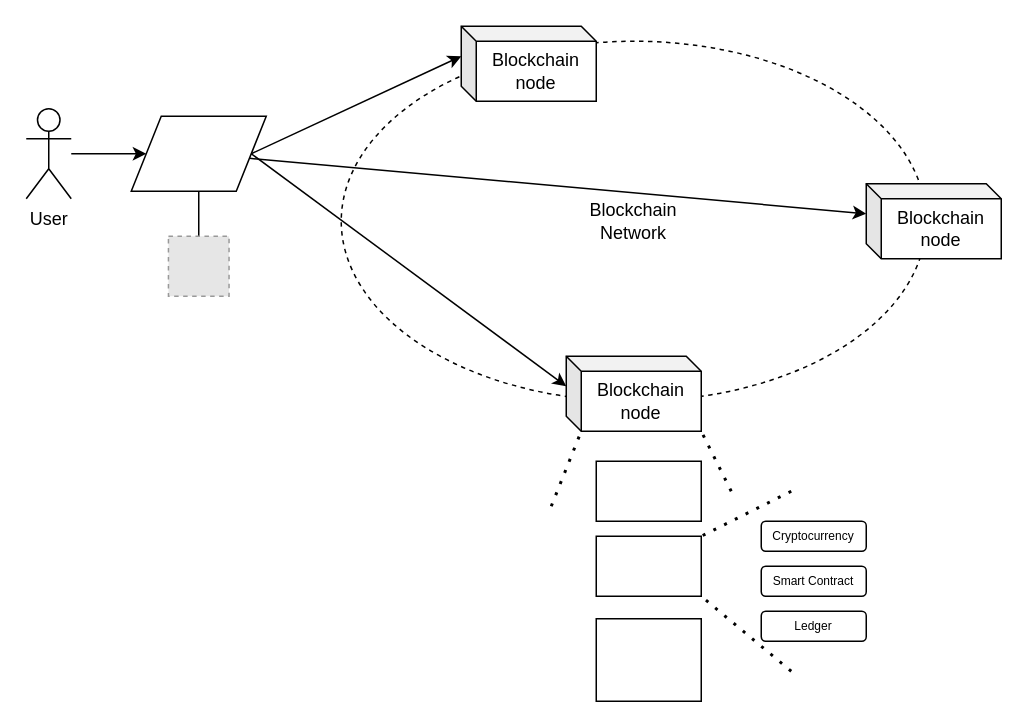
Image size: 1028x728. Some labels were removed from this diagram. Grey dashed boxes stand in for pictures. The shapes that lost their labels are listed below. From the top down, each one's centre as x and y in pixels, then its label:
point (198, 153): Wed3 Browser
point (648, 490): Blockchain API
point (648, 565): Blockchain Protocol
point (648, 659): Peer-to-Peer Network
